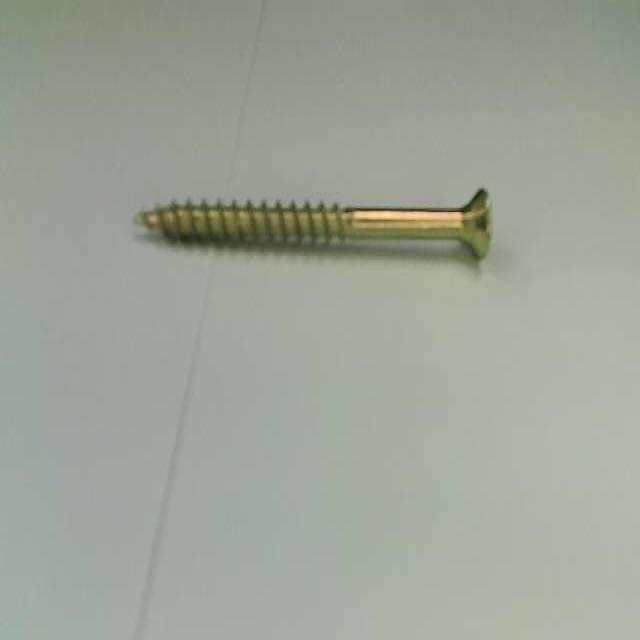Parafuso: (136, 188, 491, 259)
